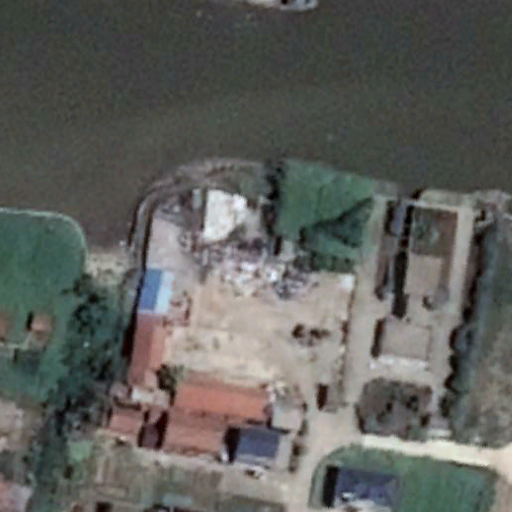msw: (202, 236, 315, 298)
